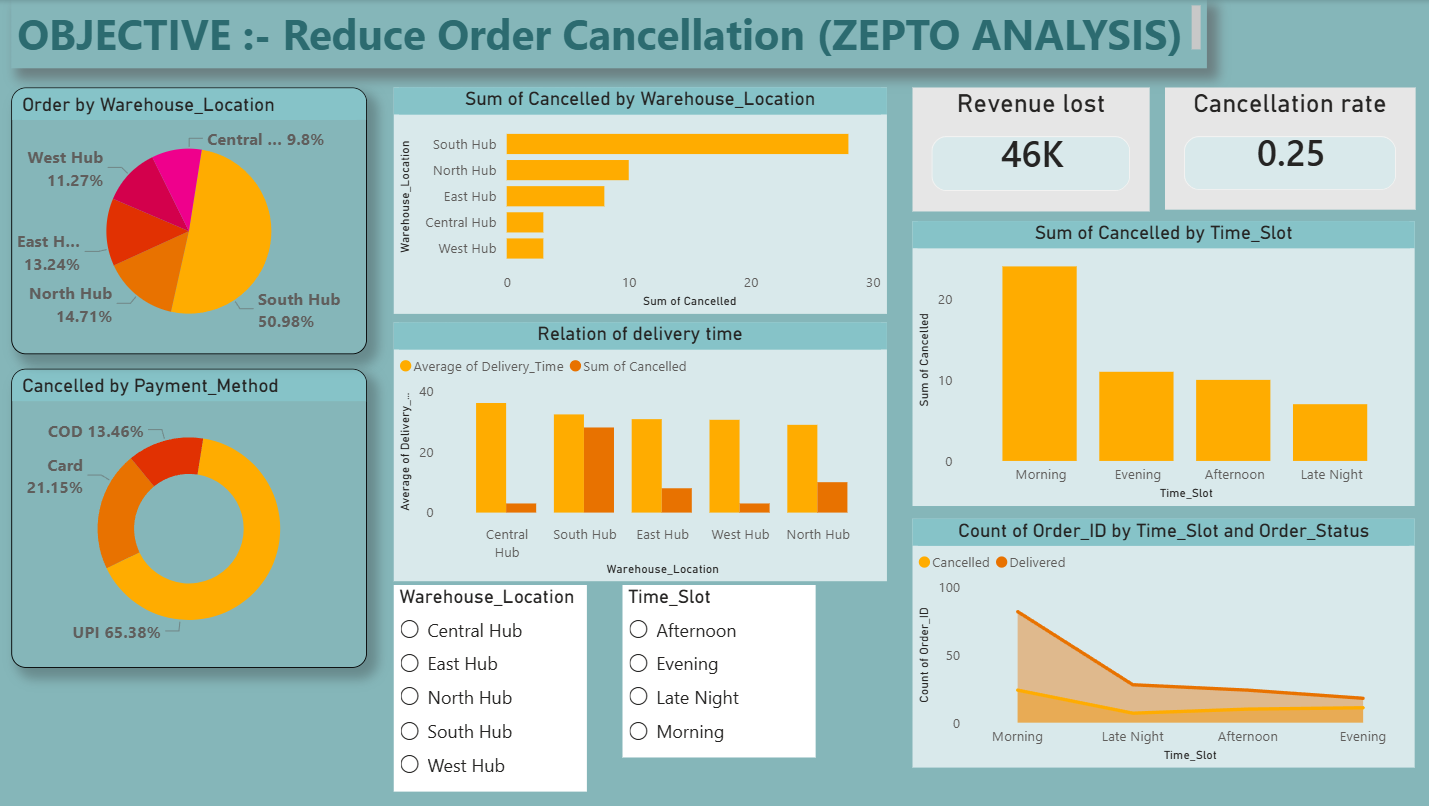

This screenshot's page, from the dashboard's own definition file:
{"tool":"powerbi","page":{"name":"Page 1","canvas":[1280,720],"ordinal":0},"visuals":[{"type":"textbox","box":[10.1,0,1064.5,60.8],"z":0},{"type":"cardVisual","title":"Cancellation rate","fields":{"Data":["zepto_cleaned_two.Cancellation_rate"]},"box":[1037,78.2,223,108.6],"z":1000},{"type":"cardVisual","title":"Revenue lost","fields":{"Data":["zepto_cleaned_two.Revenue Lost"]},"box":[812.5,78.2,211.5,110.1],"z":2000},{"type":"barChart","fields":{"Category":["zepto_cleaned_two.Warehouse_Location"],"Y":["Sum(zepto_cleaned_two.Cancelled)"]},"box":[350.5,78.2,438.8,201.3],"z":3000},{"type":"donutChart","title":" Cancelled by Payment_Method","fields":{"Category":["zepto_cleaned_two.Payment_Method"],"Y":["Sum(zepto_cleaned_two.Cancelled)"]},"box":[10.1,328.8,317.2,266.5],"z":4000},{"type":"areaChart","fields":{"Category":["zepto_cleaned_two.Time_Slot"],"Series":["zepto_cleaned_two.Order_Status"],"Y":["CountNonNull(zepto_cleaned_two.Order_ID)"]},"box":[812.5,462,447.5,221.6],"z":5000},{"type":"columnChart","fields":{"Category":["zepto_cleaned_two.Time_Slot"],"Y":["Sum(zepto_cleaned_two.Cancelled)"]},"box":[812.5,197,447.5,253.5],"z":6000},{"type":"lineClusteredColumnComboChart","title":"Relation of delivery time ","fields":{"Category":["zepto_cleaned_two.Warehouse_Location"],"Y":["Avg(zepto_cleaned_two.Delivery_Time)","Sum(zepto_cleaned_two.Cancelled)"]},"box":[350.5,286.8,438.8,230.3],"z":7000},{"type":"pieChart","title":" Order by Warehouse_Location","fields":{"Y":["CountNonNull(zepto_cleaned_two.Order_ID)"],"Category":["zepto_cleaned_two.Warehouse_Location"]},"box":[10.1,78.2,317.2,237.5],"z":8000},{"type":"listSlicer","fields":{"Values":["zepto_cleaned_two.Warehouse_Location"]},"box":[350.5,521.4,172.3,183.9],"z":9000},{"type":"listSlicer","fields":{"Values":["zepto_cleaned_two.Time_Slot"]},"box":[554.7,521.4,172.3,153.5],"z":10000}]}

Visuals, with their boxes in screenshot pixels (x1, y1, x2, y2), scaled from the page's 1280x720 canvas onto the 1429x806 screenshot:
textbox: <region>11, 0, 1200, 68</region>
"Cancellation rate" cardVisual: <region>1158, 88, 1407, 209</region>
"Revenue lost" cardVisual: <region>907, 88, 1143, 211</region>
barChart - zepto_cleaned_two.Warehouse_Location x Sum(zepto_cleaned_two.Cancelled): <region>391, 88, 881, 313</region>
" Cancelled by Payment_Method" donutChart: <region>11, 368, 365, 666</region>
areaChart - zepto_cleaned_two.Time_Slot x zepto_cleaned_two.Order_Status: <region>907, 517, 1407, 765</region>
columnChart - zepto_cleaned_two.Time_Slot x Sum(zepto_cleaned_two.Cancelled): <region>907, 221, 1407, 504</region>
"Relation of delivery time " lineClusteredColumnComboChart: <region>391, 321, 881, 579</region>
" Order by Warehouse_Location" pieChart: <region>11, 88, 365, 353</region>
listSlicer - zepto_cleaned_two.Warehouse_Location: <region>391, 584, 584, 790</region>
listSlicer - zepto_cleaned_two.Time_Slot: <region>619, 584, 812, 756</region>
